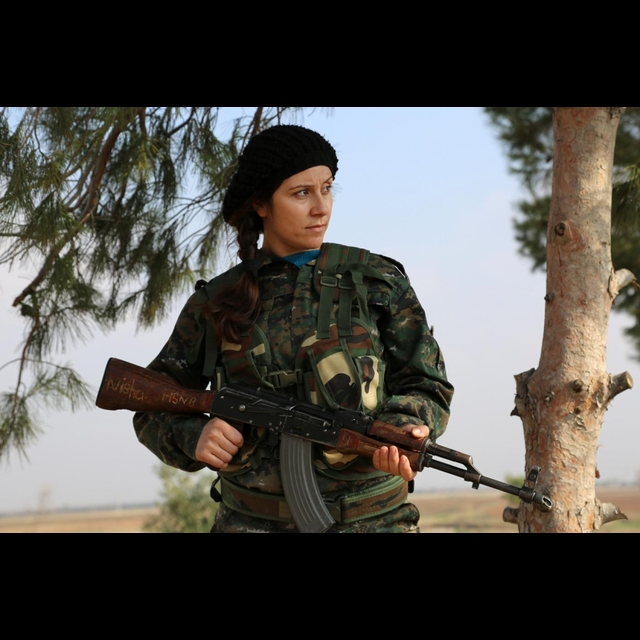AK47: (214, 378, 553, 531)
